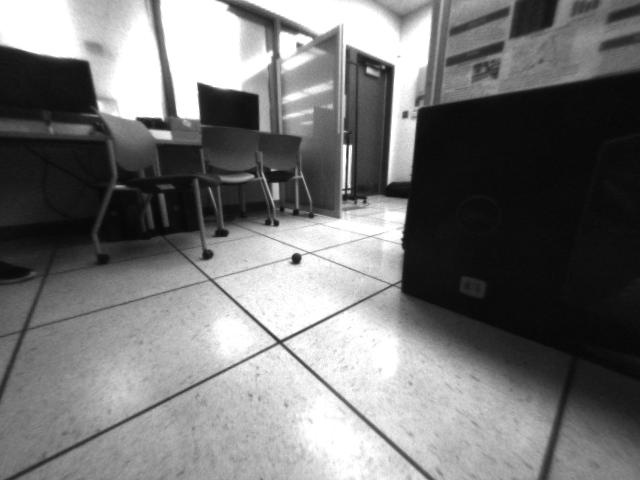dogtoy: (284, 247, 307, 268)
